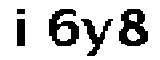6: (47, 4, 78, 51)
8: (118, 7, 150, 50)
i: (9, 3, 35, 55)
y: (82, 16, 115, 60)
